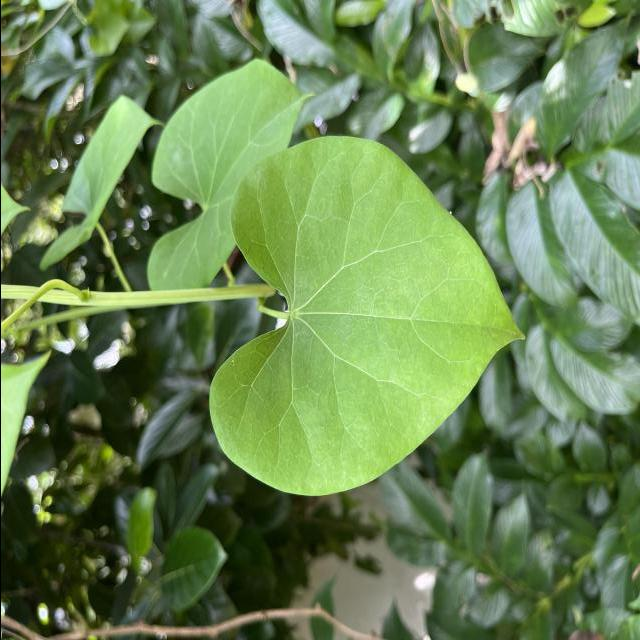Tinospora cordifolia: (202, 132, 528, 502)
